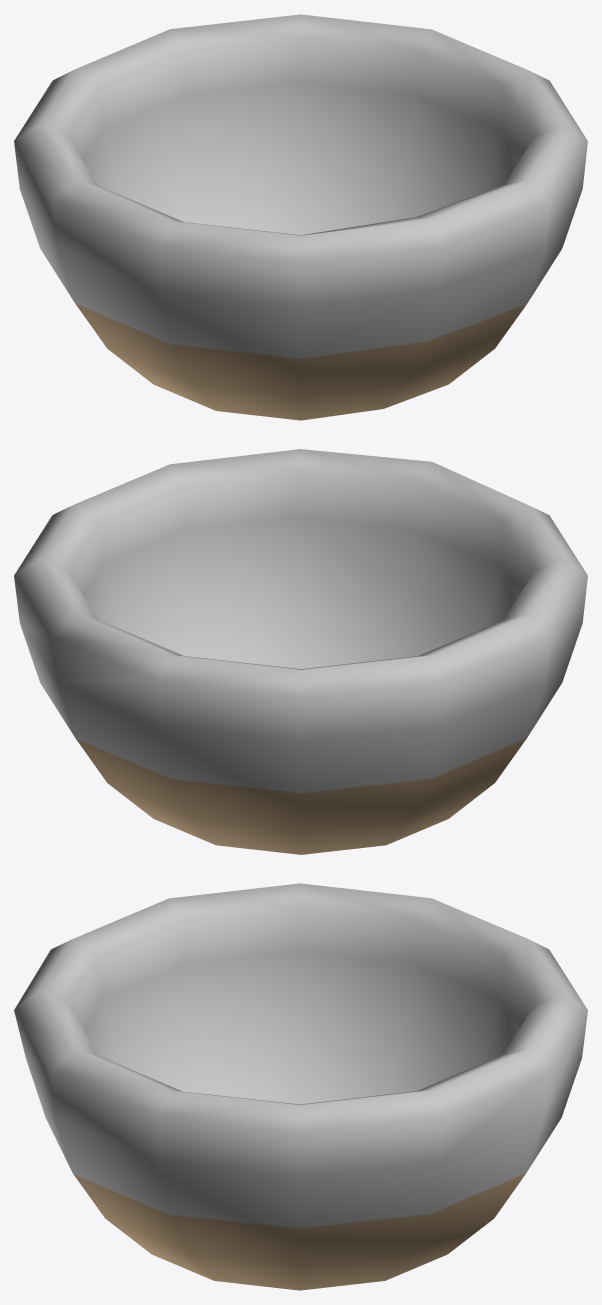
File: frl_apartment_bowl_01.glb
The picture shows the model from 3 angles, top to bottom: view 1: azimuth 30°, elevation 25°; view 2: azimuth 150°, elevation 25°; view 3: azimuth 270°, elevation 25°; orthographic projection.
Visible parts, largest first — view 1: frl_apartment_bowl_01; view 2: frl_apartment_bowl_01; view 3: frl_apartment_bowl_01.
Boxes of the visible parts, bbox=[...] form: frl_apartment_bowl_01: bbox=[14, 14, 587, 420]; frl_apartment_bowl_01: bbox=[14, 449, 587, 854]; frl_apartment_bowl_01: bbox=[14, 883, 587, 1290].
Bounding box in the file's own units: 0.2533 × 0.1245 × 0.2525.
Materials: 1 (1 with a texture image).
